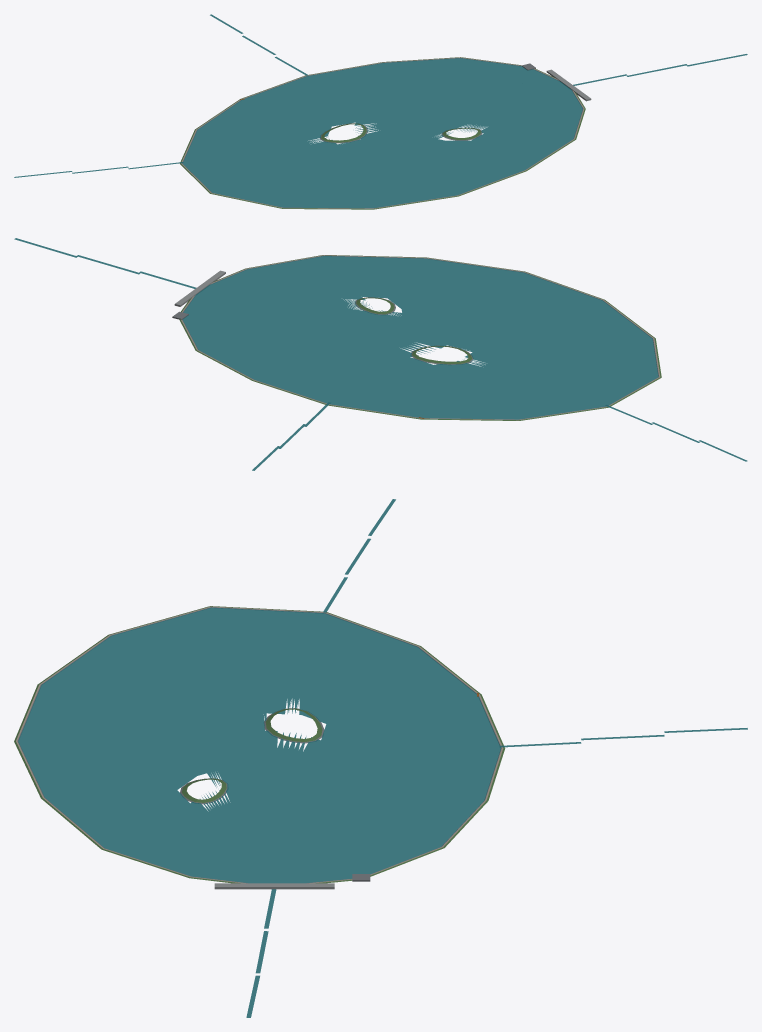
Rendered from water_ho_tu_tra_bong_lai.glb.
3 views of the same model, one above another, from view 1: azimuth 30°, elevation 25°; view 2: azimuth 150°, elevation 25°; view 3: azimuth 270°, elevation 25° (orthographic). The views are drawn at different scales.
Parts seen in each view (by area): view 1: water_surface_water_ho_tu_tra_bong_lai, shoreline_terrain_transition_verge_water_ho_tu_tra_bong_lai, lakeside_promenade_walkway_water_ho_tu_tra_bong_lai, embankment_stone_coping_water_ho_tu_tra_bong_lai, headwater_terraces_stream_tu_tra_east_spillway_to_da_nhim; view 2: water_surface_water_ho_tu_tra_bong_lai, shoreline_terrain_transition_verge_water_ho_tu_tra_bong_lai, lakeside_promenade_walkway_water_ho_tu_tra_bong_lai, embankment_stone_coping_water_ho_tu_tra_bong_lai, headwater_terraces_stream_tu_tra_east_spillway_to_da_nhim; view 3: water_surface_water_ho_tu_tra_bong_lai, shoreline_terrain_transition_verge_water_ho_tu_tra_bong_lai, lakeside_promenade_walkway_water_ho_tu_tra_bong_lai, embankment_stone_coping_water_ho_tu_tra_bong_lai, tu_tra_main_irrigation_earth_dam_crest.
Part boxes in pixels (x1,y1,x2,y2): water_surface_water_ho_tu_tra_bong_lai: (182, 58, 582, 208); shoreline_terrain_transition_verge_water_ho_tu_tra_bong_lai: (179, 57, 585, 209); lakeside_promenade_walkway_water_ho_tu_tra_bong_lai: (181, 57, 584, 208); embankment_stone_coping_water_ho_tu_tra_bong_lai: (182, 58, 583, 208); headwater_terraces_stream_tu_tra_east_spillway_to_da_nhim: (573, 54, 747, 85); water_surface_water_ho_tu_tra_bong_lai: (182, 256, 658, 419); shoreline_terrain_transition_verge_water_ho_tu_tra_bong_lai: (179, 255, 661, 420); lakeside_promenade_walkway_water_ho_tu_tra_bong_lai: (181, 255, 660, 420); embankment_stone_coping_water_ho_tu_tra_bong_lai: (182, 255, 658, 419); headwater_terraces_stream_tu_tra_east_spillway_to_da_nhim: (14, 238, 196, 288); water_surface_water_ho_tu_tra_bong_lai: (18, 607, 500, 883); shoreline_terrain_transition_verge_water_ho_tu_tra_bong_lai: (14, 606, 505, 883); lakeside_promenade_walkway_water_ho_tu_tra_bong_lai: (16, 606, 503, 883); embankment_stone_coping_water_ho_tu_tra_bong_lai: (17, 607, 501, 883); tu_tra_main_irrigation_earth_dam_crest: (214, 883, 334, 889).
Bounding box in the file's own units: 3592 × 48.5 × 2203.
